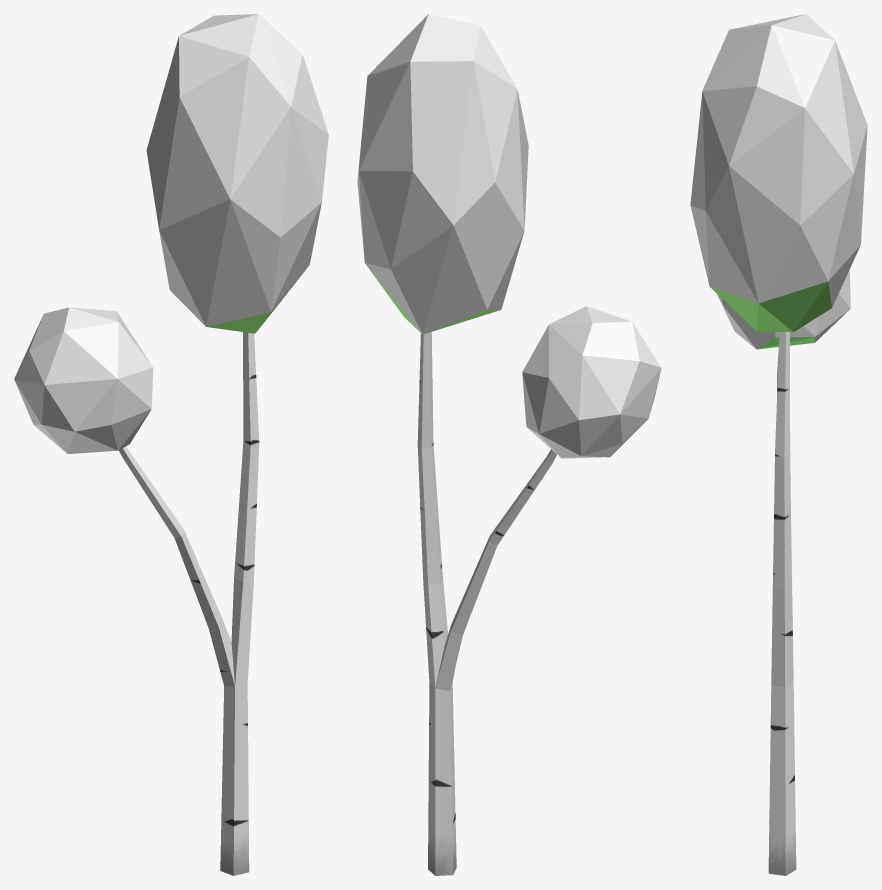
The model's file is Birch_Tree_m_Snow_04_LOD.fbx.
3 renders of one model, left to right at view 1: azimuth 30°, elevation 25°; view 2: azimuth 150°, elevation 25°; view 3: azimuth 270°, elevation 25°, orthographic.
Visible parts, largest first — view 1: Birch_Tree_m_Snow_04_LOD0; view 2: Birch_Tree_m_Snow_04_LOD0; view 3: Birch_Tree_m_Snow_04_LOD0.
Part boxes in pixels (x1,y1,x2,y2): Birch_Tree_m_Snow_04_LOD0: (14,14,328,875); Birch_Tree_m_Snow_04_LOD0: (357,14,661,875); Birch_Tree_m_Snow_04_LOD0: (690,14,867,875).
Size of what is drawn, in the model's own units: 265 by 767 by 144.
